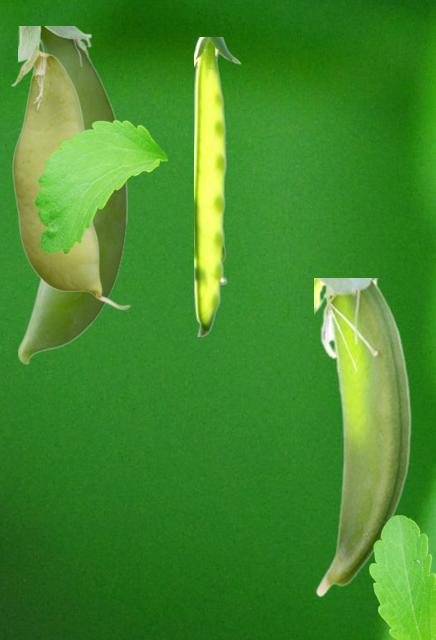pea: (18, 26, 126, 363), (10, 43, 130, 309), (314, 278, 413, 596), (194, 37, 240, 335)
